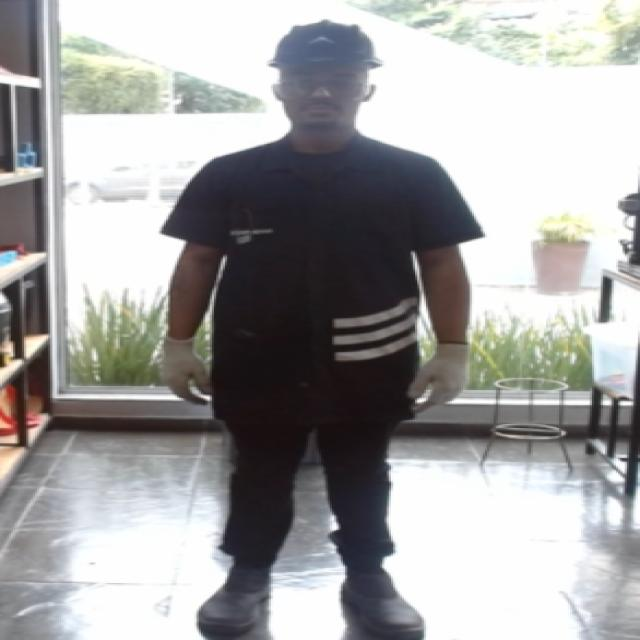BOTA: (334, 543, 449, 636), (187, 562, 292, 637)
CAPACETE: (266, 17, 392, 68)
JALECO: (153, 127, 501, 431)
LUVA: (404, 339, 470, 417), (160, 330, 214, 407)
OCULOS: (258, 74, 379, 102)
